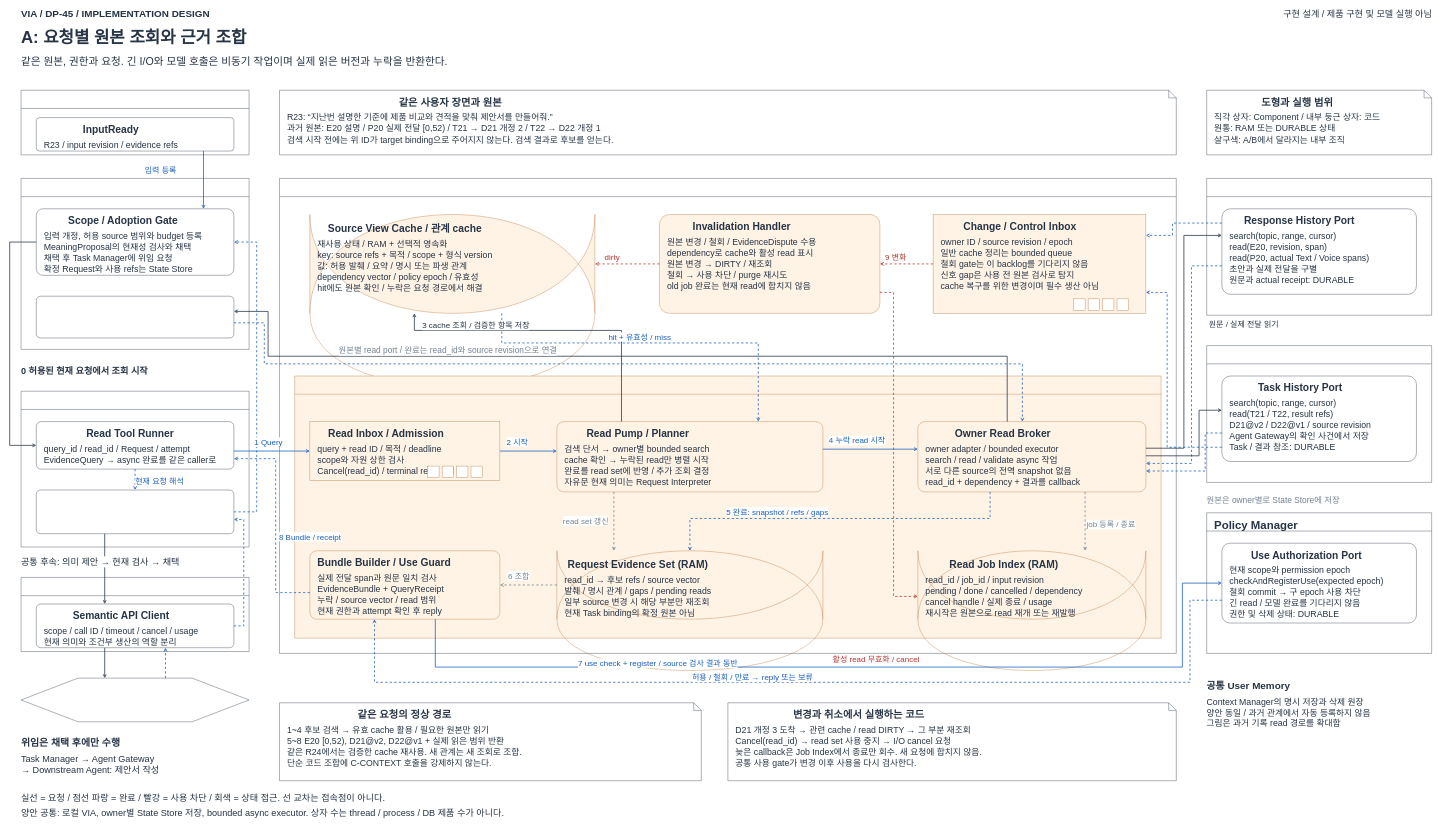
The diagram is 1438 pixels wide and 825 high, and some of its shapes have lost their labels. The shapes that lost their labels are listed below. From the top down, each one's box as (x1, y1, x2, y2) in pixels, then its label:
(21, 90, 249, 155): Interaction Manager
(21, 178, 249, 349): Request Controller
(1206, 178, 1432, 315): Response Manager
(36, 296, 234, 338): History Read Port 주제 / 입력 / 채택 정정의 검색과 읽기 명시 REVISES / 당시 revision 반환
(279, 178, 1176, 653): Context Manager
(1206, 345, 1432, 482): Task Manager
(21, 391, 249, 547): Request Interpreter
(36, 490, 234, 534): Current Meaning Job Bundle로 현재 목표와 Task 연결 제안 추가 읽기 또는 질문 / 자동 채택 아님
(294, 376, 1161, 638): Context Composer / 요청별 조합 작업
(21, 577, 249, 652): Model Access
(21, 678, 249, 722): Cloud semantic model 외부 dependency / 입력 허용 범위만 전송 취소 실패 후 완료와 청구도 추적
